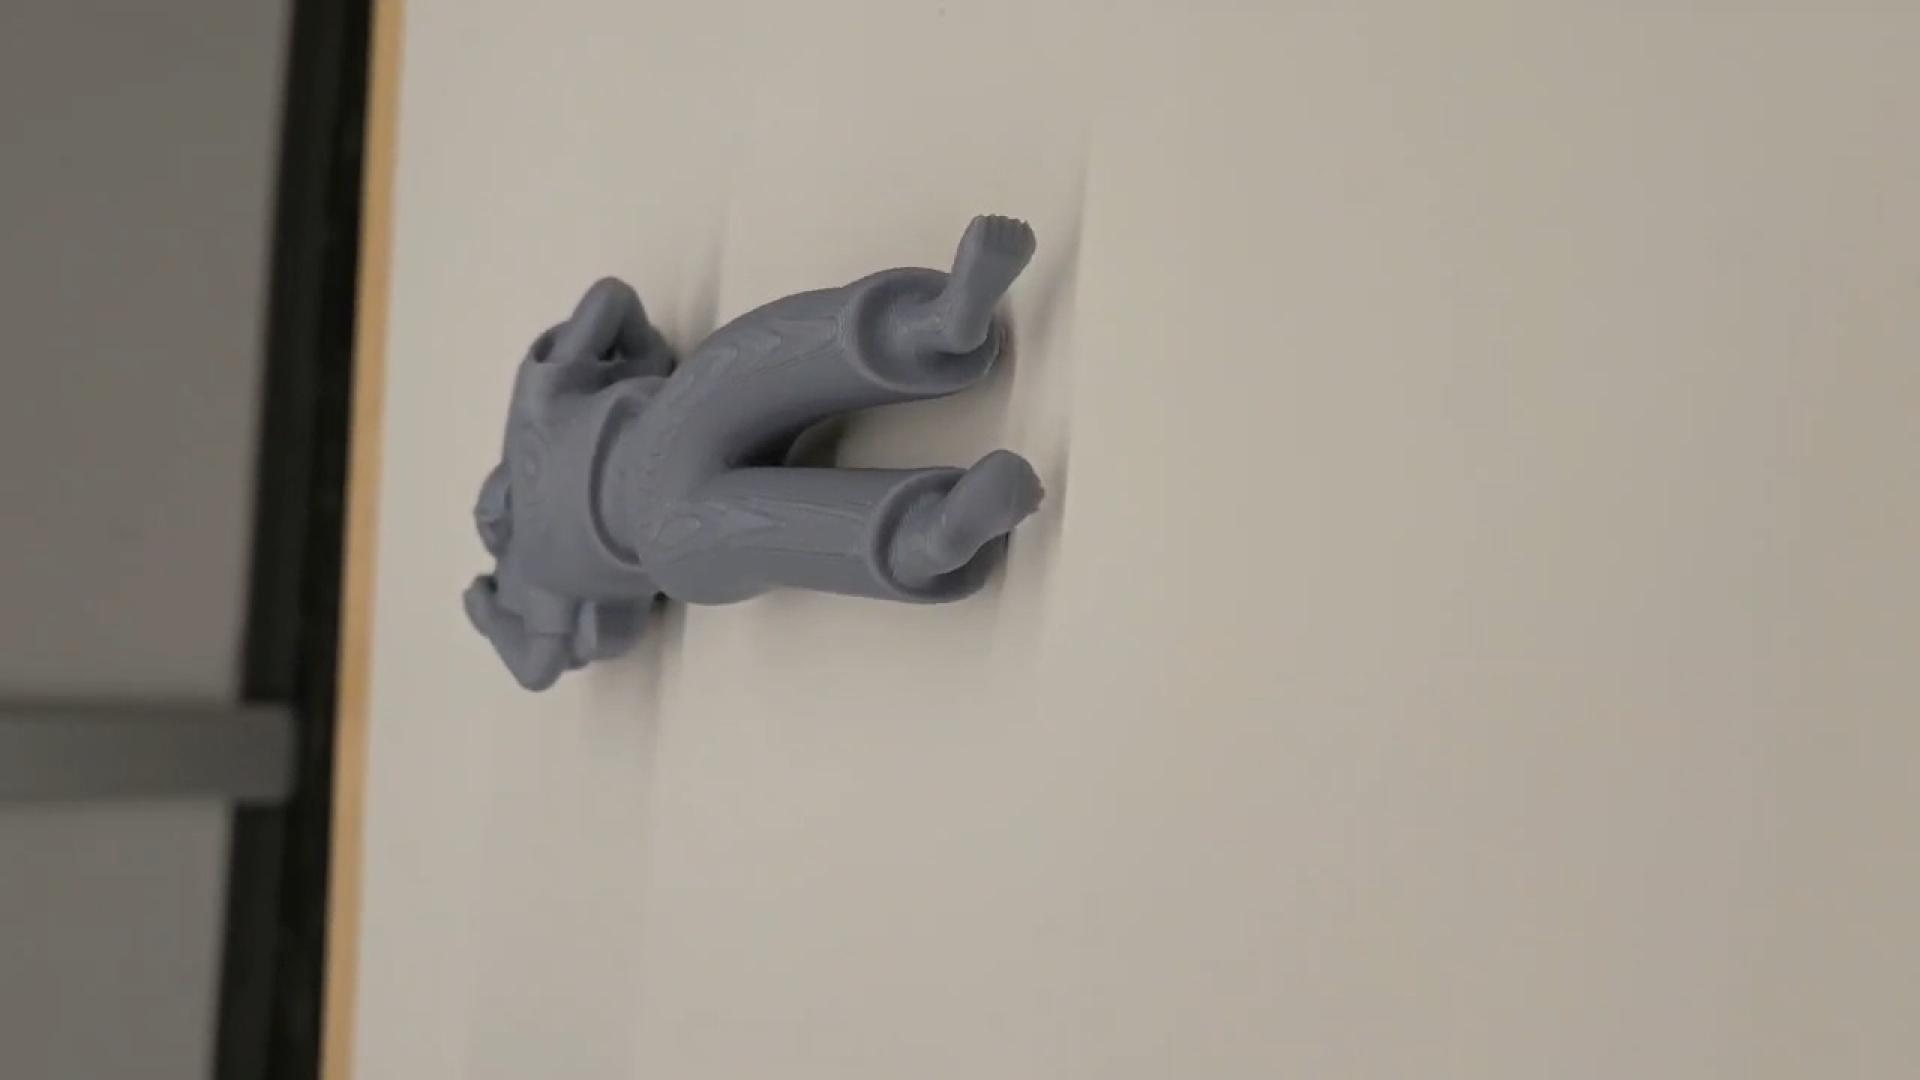Bad-style: (460, 204, 1058, 702)
